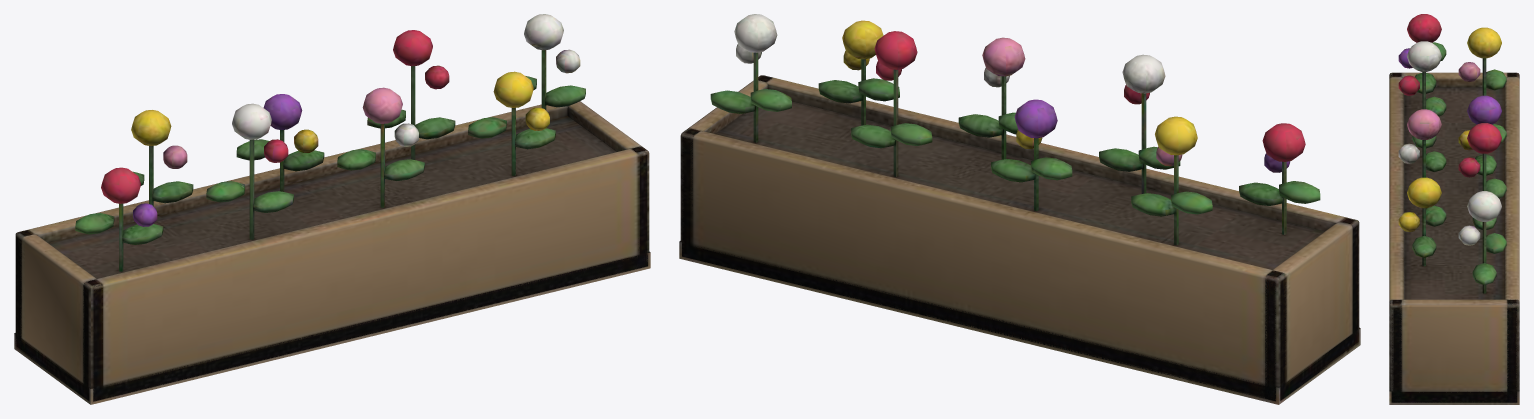
Rendered from flower_box.glb.
3 renders of one model, left to right at view 1: azimuth 30°, elevation 25°; view 2: azimuth 150°, elevation 25°; view 3: azimuth 270°, elevation 25°, orthographic. The views are drawn at different scales.
Parts seen in each view (by area): view 1: bloom0; view 2: bloom0; view 3: bloom0.
Boxes of the visible parts, x1,y1,x2,y2 form: bloom0: (14,14,650,404); bloom0: (679,14,1360,404); bloom0: (1389,14,1519,404).
Bounding box in the file's own units: 1.1 × 0.45 × 0.26.
1 material, 1 textured.
